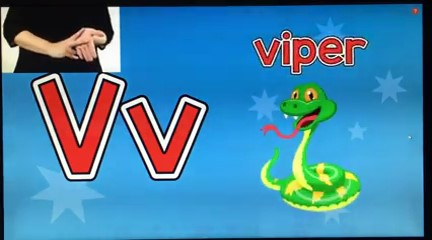V: (44, 23, 109, 66)
